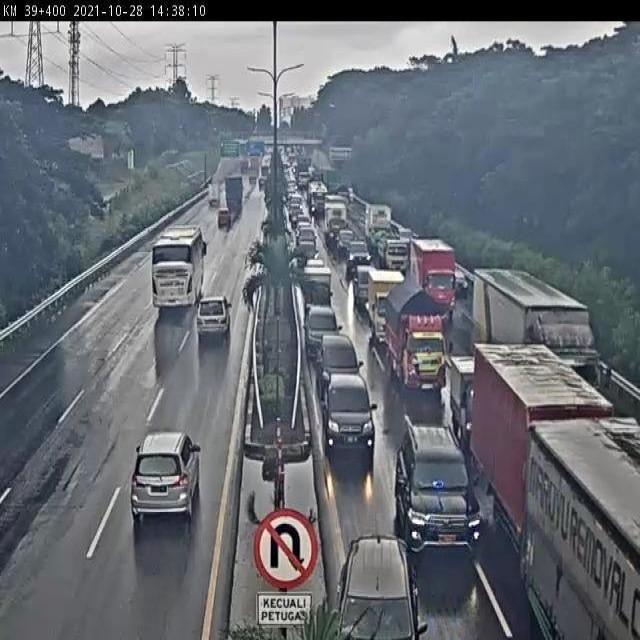car: (392, 412, 477, 552), (123, 419, 215, 539), (323, 369, 383, 464), (316, 336, 365, 408), (303, 301, 350, 371), (192, 303, 235, 353)
truck: (469, 340, 608, 544), (528, 421, 640, 640), (471, 263, 598, 408), (339, 530, 434, 640), (138, 228, 210, 321), (388, 284, 441, 389), (449, 355, 498, 443), (413, 236, 459, 313), (366, 263, 409, 343), (301, 263, 339, 315)
